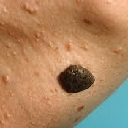Actinic: (55, 61, 97, 97), (20, 1, 40, 16), (1, 67, 14, 89)
